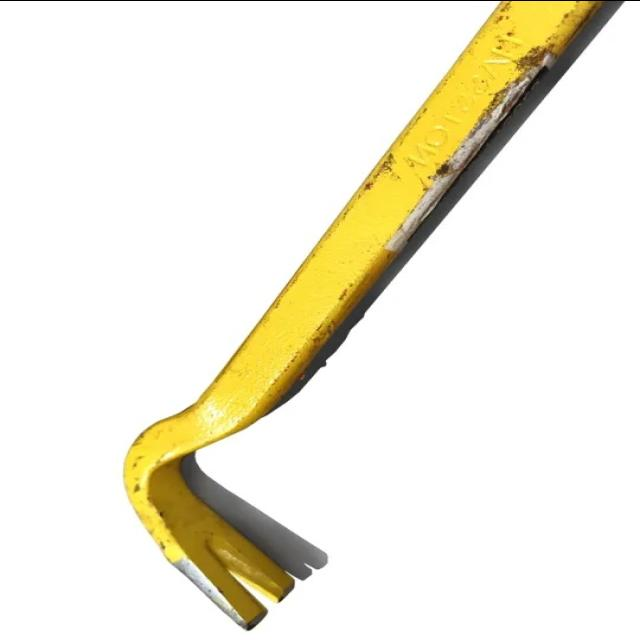Linggis: (122, 6, 570, 630)
